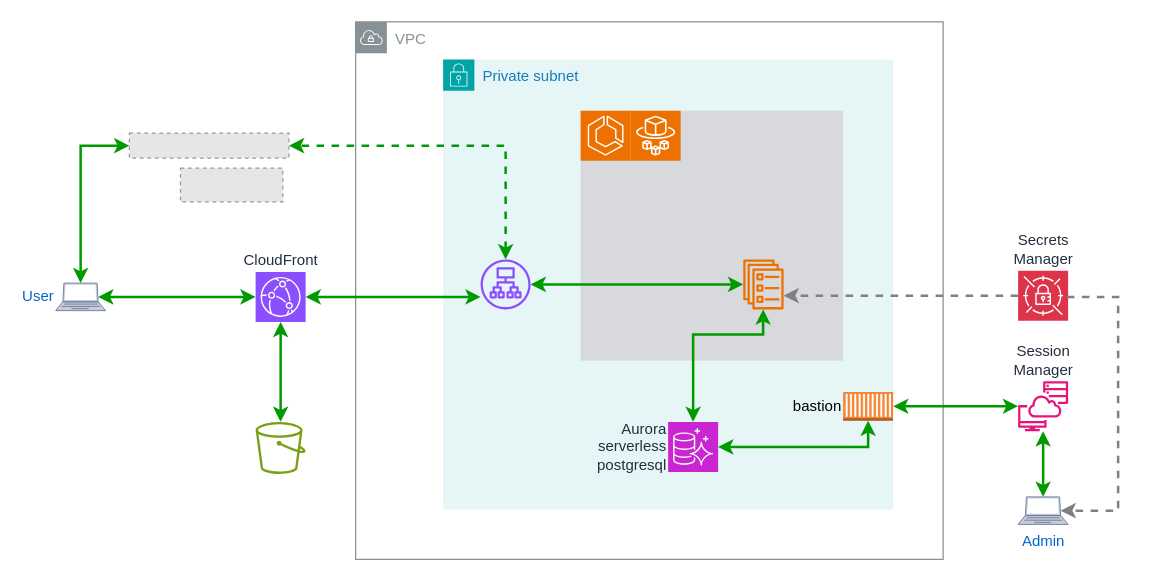
Image size: 1150x581. Some labels were removed from this diagram. Grey dashed boxes stand in for pictures. The shapes that lost their labels are listed below. From the top down, each one's centre as x and y in pixels, then its label:
At pixel 605 135: "ECS".
At pixel 655 135: "Fargate".
At pixel 505 284: "Internal ALB".
At pixel 762 284: "REST API".
At pixel 280 447: "Web assets".
